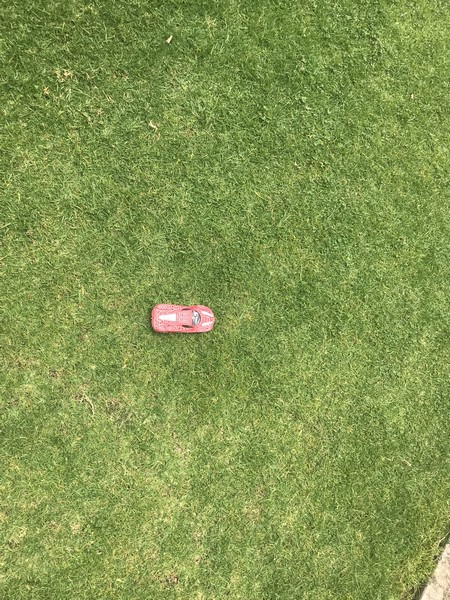RC: (149, 299, 216, 338)
